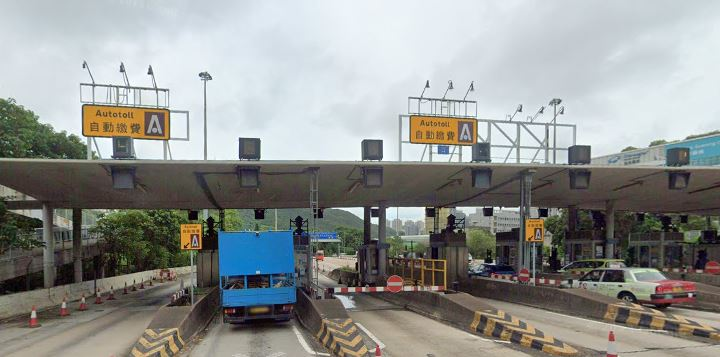Autotoll: (73, 102, 170, 140), (410, 117, 476, 146)
